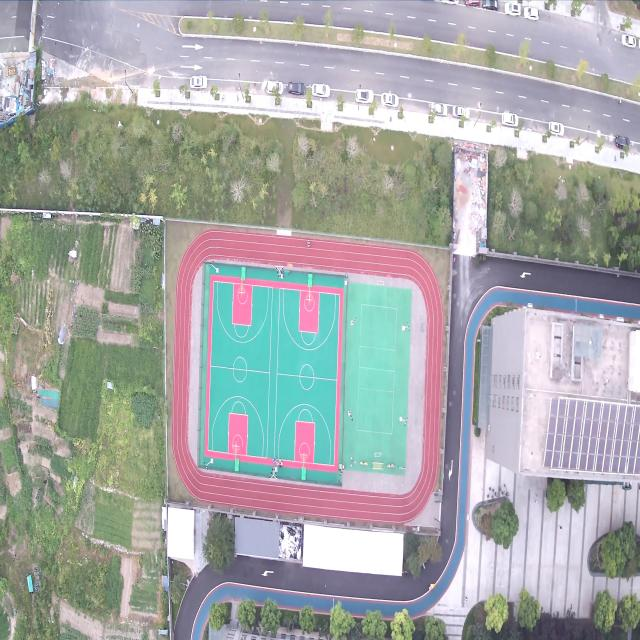drone: (132, 306, 138, 316)
